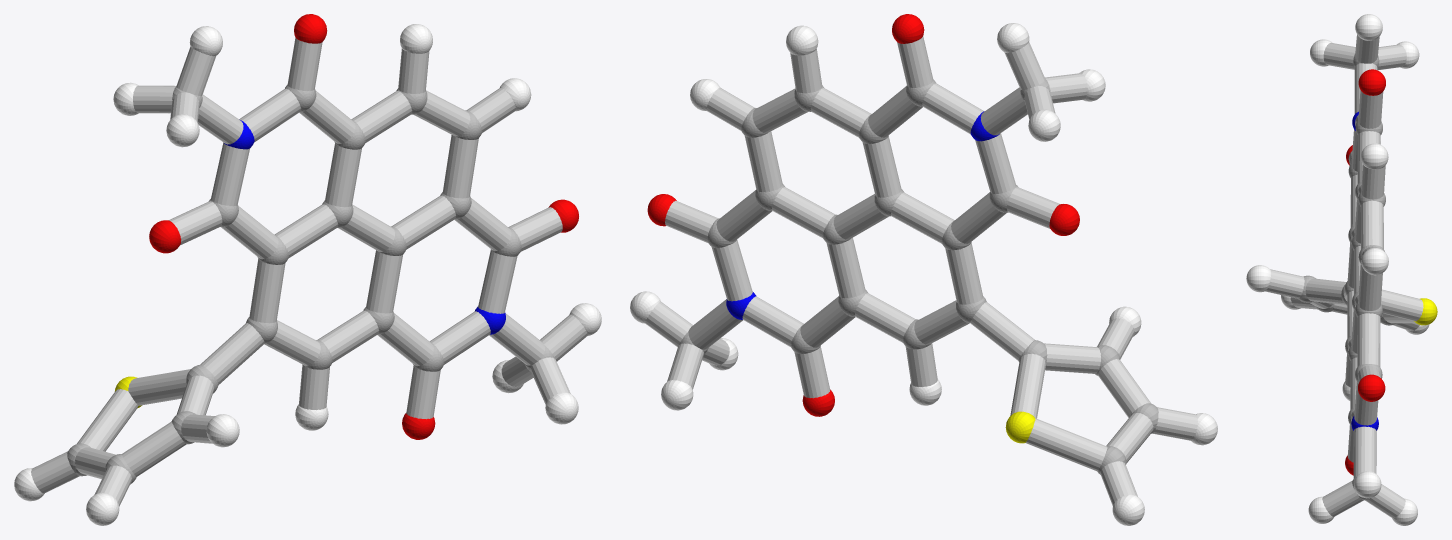
File: color.glb
3 views of the same model, side by side, from view 1: azimuth 30°, elevation 25°; view 2: azimuth 150°, elevation 25°; view 3: azimuth 270°, elevation 25° (orthographic). The views are drawn at different scales.
Parts seen in each view (by area): view 1: grp14119, grp7241, grp1, grp12309, grp11585; view 2: grp14119, grp7241, grp1, grp12309, grp11585, grp13757; view 3: grp14119, grp7241, grp1, grp12309, grp13757.
Boxes of the visible parts, x1,y1,x2,y2 form: grp14119: (31,37,587,506); grp7241: (14,24,601,525); grp1: (67,84,554,484); grp12309: (149,14,578,439); grp11585: (224,120,505,334); grp14119: (645,36,1197,505); grp7241: (630,23,1217,525); grp1: (679,79,1158,474); grp12309: (647,14,1079,416); grp11585: (726,111,999,319); grp13757: (1005,411,1035,443); grp14119: (1265,34,1423,518); grp7241: (1246,14,1429,525); grp1: (1298,54,1395,500); grp12309: (1345,69,1385,475); grp13757: (1414,298,1437,325).
Bounding box in the file's own units: 11.55 × 9.11 × 4.16.
